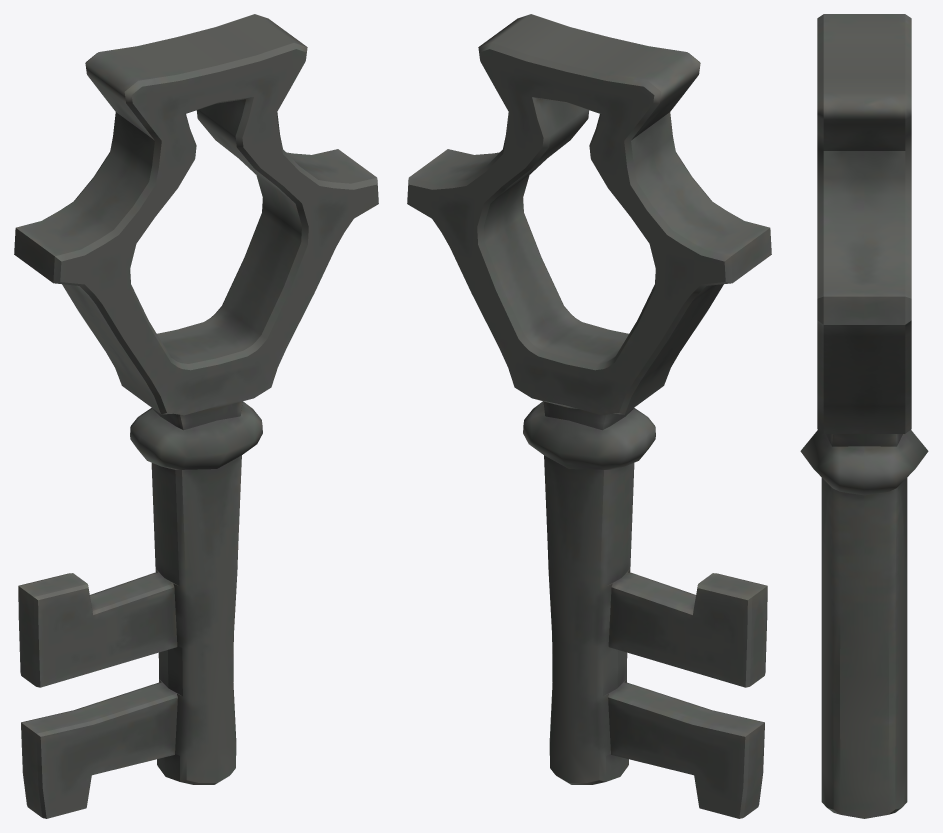
File: grandmaKey.fbx
The picture shows the model from 3 angles, left to right: view 1: azimuth 30°, elevation 25°; view 2: azimuth 150°, elevation 25°; view 3: azimuth 270°, elevation 25°; orthographic projection. The views are drawn at different scales.
Visible parts, largest first — view 1: grandmaKey; view 2: grandmaKey; view 3: grandmaKey.
Boxes of the visible parts, bbox=[...] form: grandmaKey: bbox=[14, 14, 378, 818]; grandmaKey: bbox=[407, 14, 771, 818]; grandmaKey: bbox=[800, 14, 928, 818].
Bounding box in the file's own units: 1.45 × 3.03 × 0.4663.
